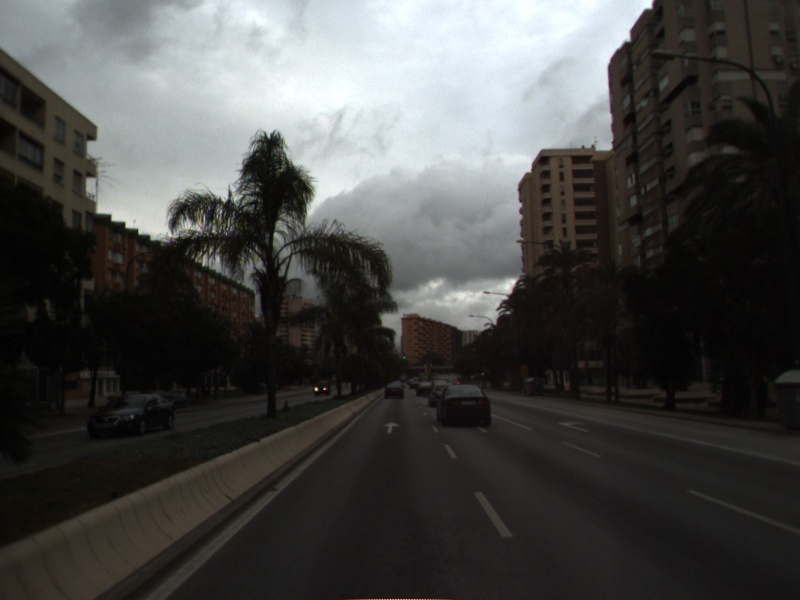RIGHT: (556, 418, 592, 435)
STRAIGHT: (380, 420, 403, 436)
